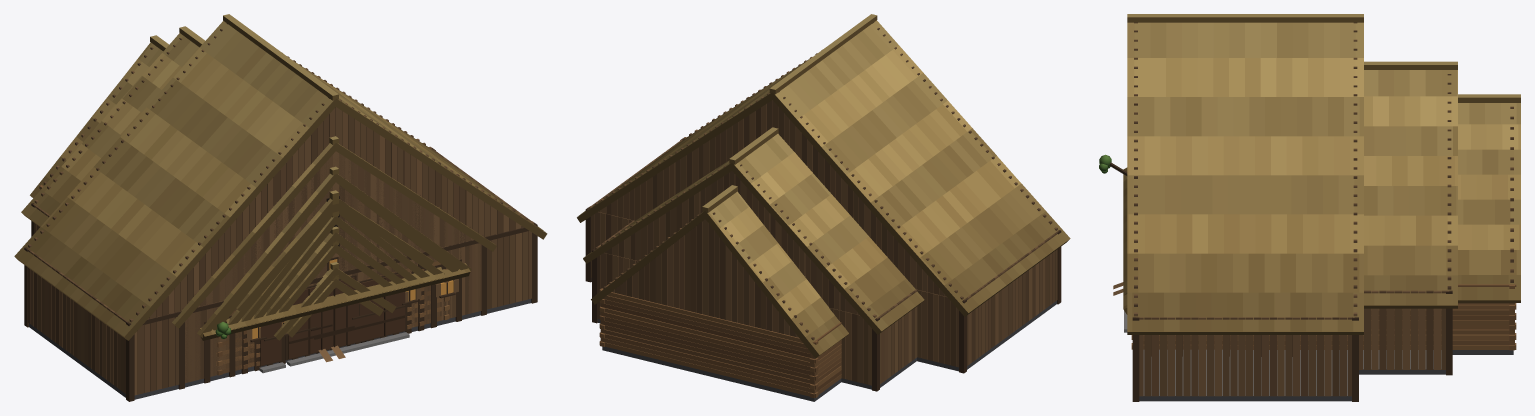
The model's file is houses3d.glb.
3 views of the same model, side by side, from view 1: azimuth 30°, elevation 25°; view 2: azimuth 150°, elevation 25°; view 3: azimuth 270°, elevation 25° (orthographic). The views are drawn at different scales.
Parts seen in each view (by area): view 1: dom-zagaje-1590, dom-zagaje-1573, dom-zagaje-1574, dom-zagaje-218, dom-zagaje-1584, dom-zagaje-1592, dom-zagaje-1591, dom-zagaje-227, dom-zagaje-1577, dom-zagaje-1595, dom-zagaje-1575, dom-zagaje-1578 (+6 smaller); view 2: dom-zagaje-1590, dom-zagaje-218, dom-zagaje-1573; view 3: dom-zagaje-1590, dom-zagaje-1573, dom-zagaje-218, dom-zagaje-1595.
Part boxes in pixels (x1,y1,x2,y2): dom-zagaje-1590: (14, 14, 547, 401); dom-zagaje-1573: (21, 26, 496, 389); dom-zagaje-1574: (197, 166, 471, 383); dom-zagaje-218: (30, 35, 458, 375); dom-zagaje-1584: (228, 190, 444, 376); dom-zagaje-1592: (241, 199, 429, 369); dom-zagaje-1591: (236, 193, 433, 374); dom-zagaje-227: (254, 211, 416, 366); dom-zagaje-1577: (266, 228, 404, 365); dom-zagaje-1595: (225, 267, 445, 329); dom-zagaje-1575: (274, 262, 395, 363); dom-zagaje-1578: (278, 240, 392, 363); dom-zagaje-1590: (577, 14, 1070, 373); dom-zagaje-218: (591, 185, 848, 401); dom-zagaje-1573: (583, 127, 924, 391); dom-zagaje-1590: (1127, 14, 1363, 401); dom-zagaje-1573: (1359, 61, 1457, 375); dom-zagaje-218: (1099, 94, 1520, 354); dom-zagaje-1595: (1123, 179, 1127, 295).
Size of the model in its own units: 109 by 63.91 by 86.95.
